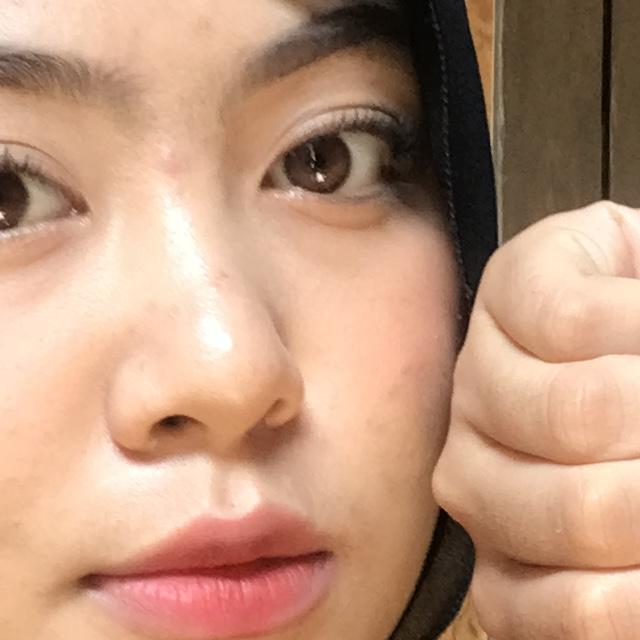sedih: (370, 146, 640, 640)
